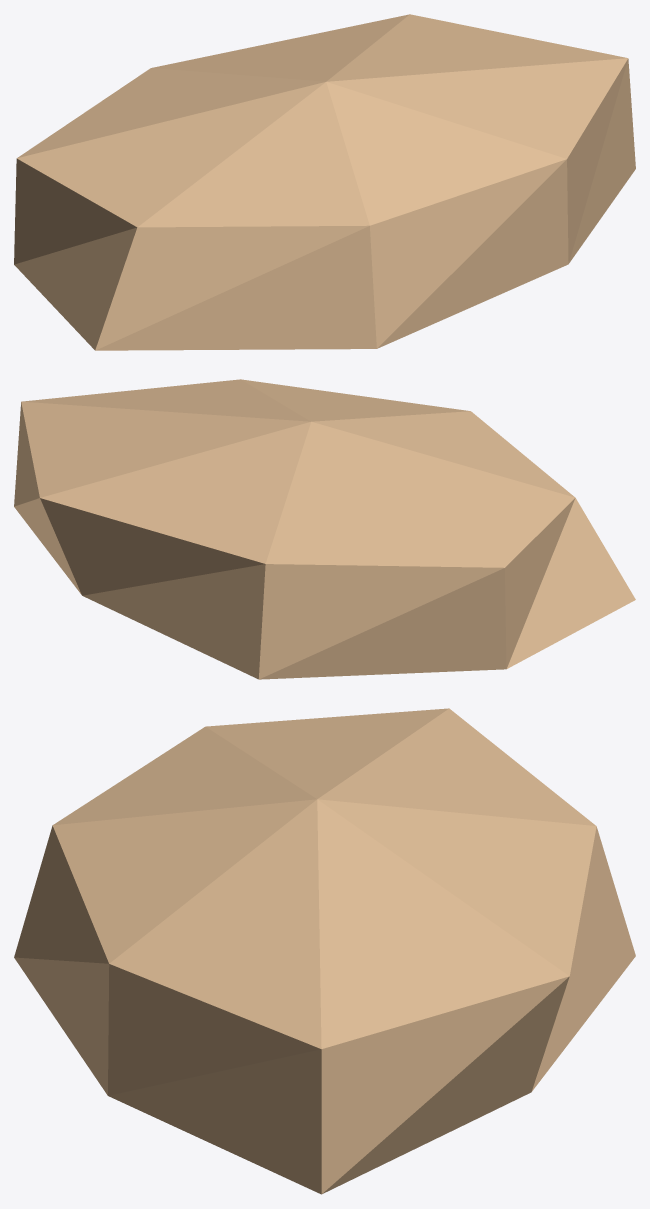
The picture shows the model from 3 angles, top to bottom: view 1: azimuth 30°, elevation 25°; view 2: azimuth 150°, elevation 25°; view 3: azimuth 270°, elevation 25°; orthographic projection. The views are drawn at different scales.
Size of the model in its own units: 20.38 by 7 by 14.69.
